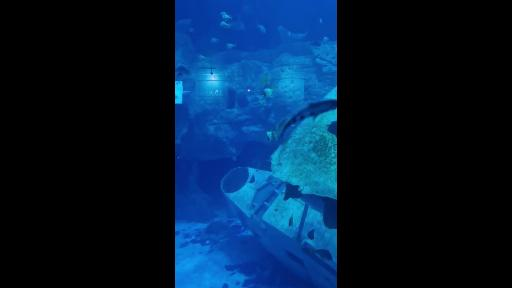Fish: (278, 100, 337, 138), (278, 26, 307, 41), (323, 198, 337, 229), (284, 184, 303, 200), (231, 17, 245, 30), (175, 64, 190, 76), (315, 250, 332, 260), (328, 121, 337, 137), (257, 21, 265, 33), (264, 88, 273, 97), (220, 21, 231, 28), (223, 14, 232, 20), (308, 230, 314, 239), (227, 44, 236, 49), (262, 77, 269, 83), (220, 11, 227, 17), (311, 42, 321, 46), (198, 55, 207, 59), (289, 215, 292, 226), (211, 38, 219, 42), (189, 28, 195, 33), (320, 19, 322, 23)
